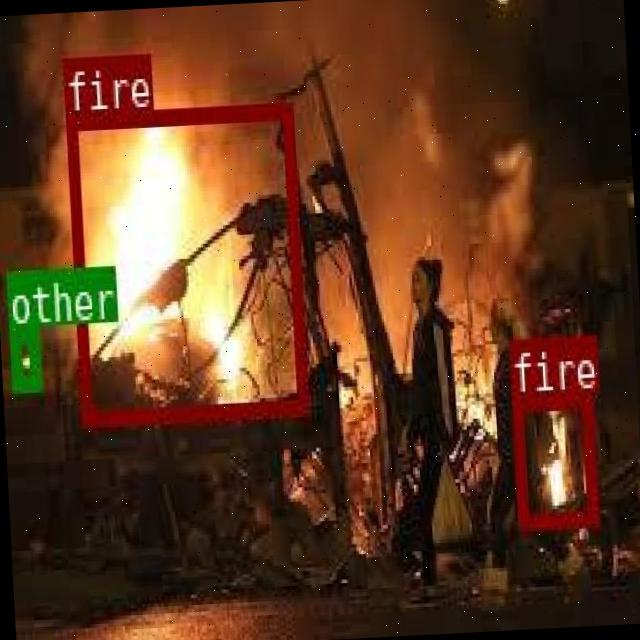fire: (64, 100, 307, 424), (511, 391, 596, 528)
